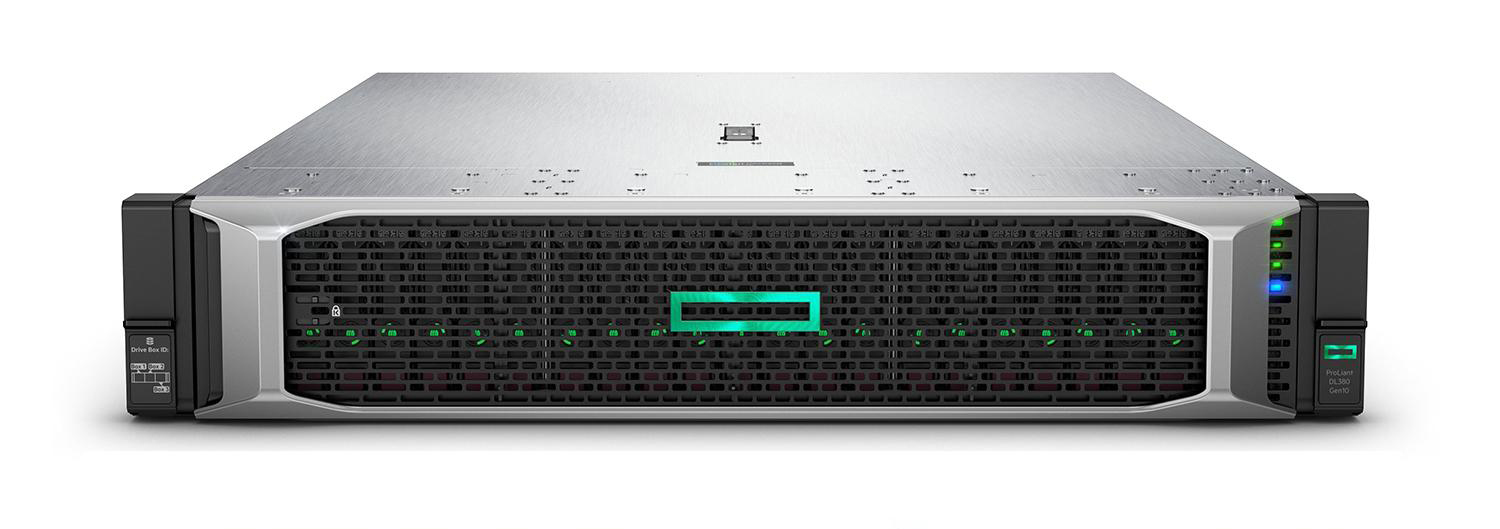File Server: (98, 42, 1402, 455)
